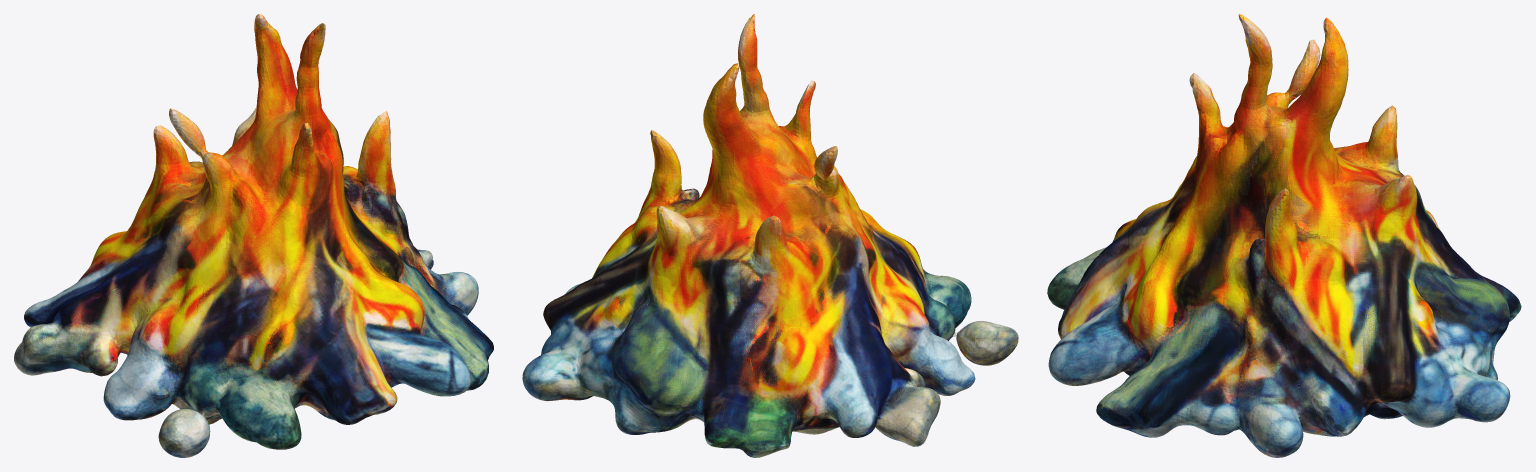
File: campfire.glb
The picture shows the model from 3 angles, left to right: view 1: azimuth 30°, elevation 25°; view 2: azimuth 150°, elevation 25°; view 3: azimuth 270°, elevation 25°; orthographic projection. The views are drawn at different scales.
Size of the model in its own units: 1.81 by 1.52 by 1.68.
1 material, 1 textured.
